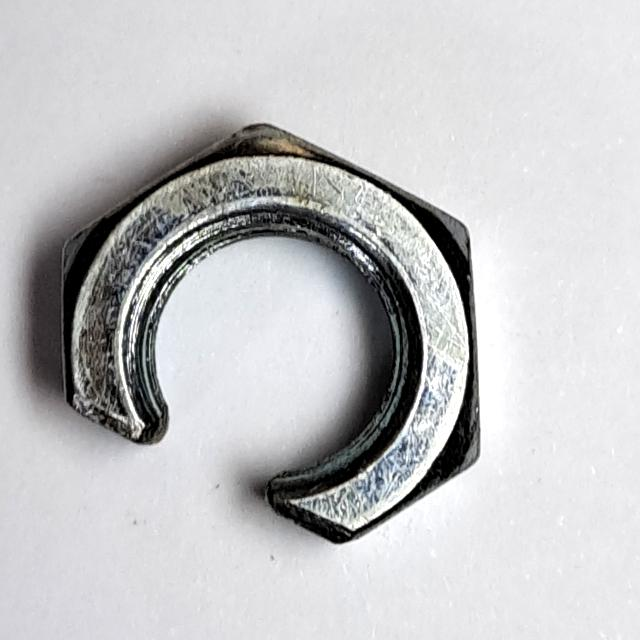Fracture: (49, 104, 500, 570)
